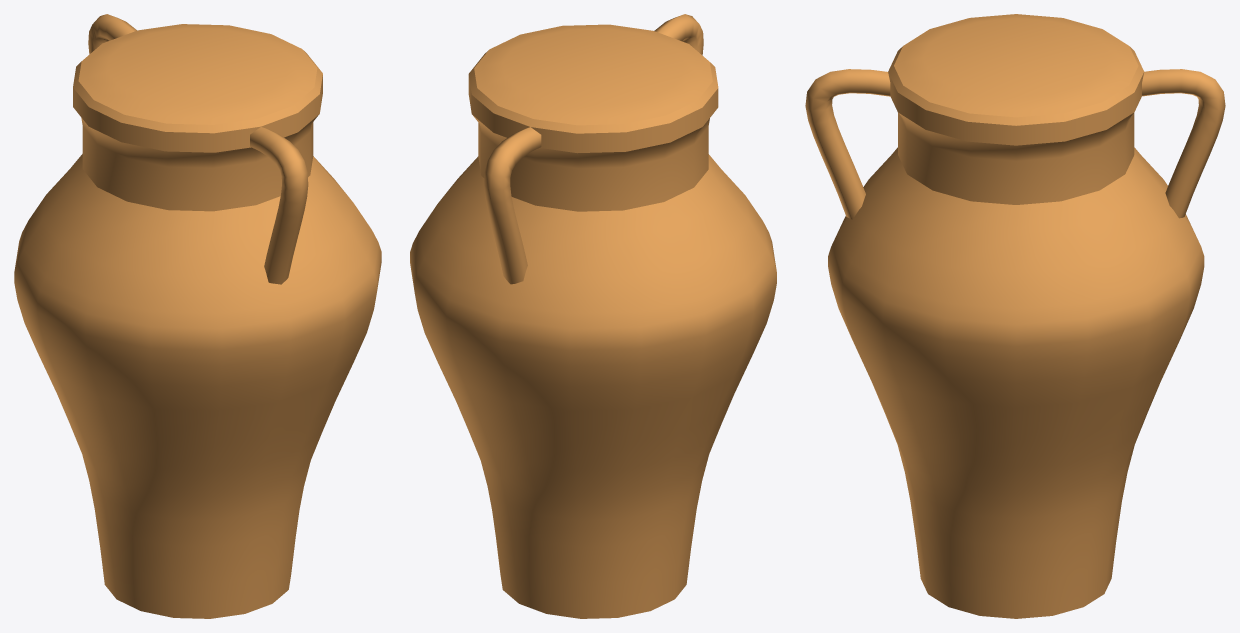
File: vase.fbx
3 views of the same model, side by side, from view 1: azimuth 30°, elevation 25°; view 2: azimuth 150°, elevation 25°; view 3: azimuth 270°, elevation 25° (orthographic).
Parts seen in each view (by area): view 1: Cylinder; view 2: Cylinder; view 3: Cylinder.
Part boxes in pixels (bbox=[...]): Cylinder: bbox=[14, 14, 381, 618]; Cylinder: bbox=[410, 14, 776, 618]; Cylinder: bbox=[805, 14, 1225, 618].
Bounding box in the file's own units: 150 × 230 × 168.
